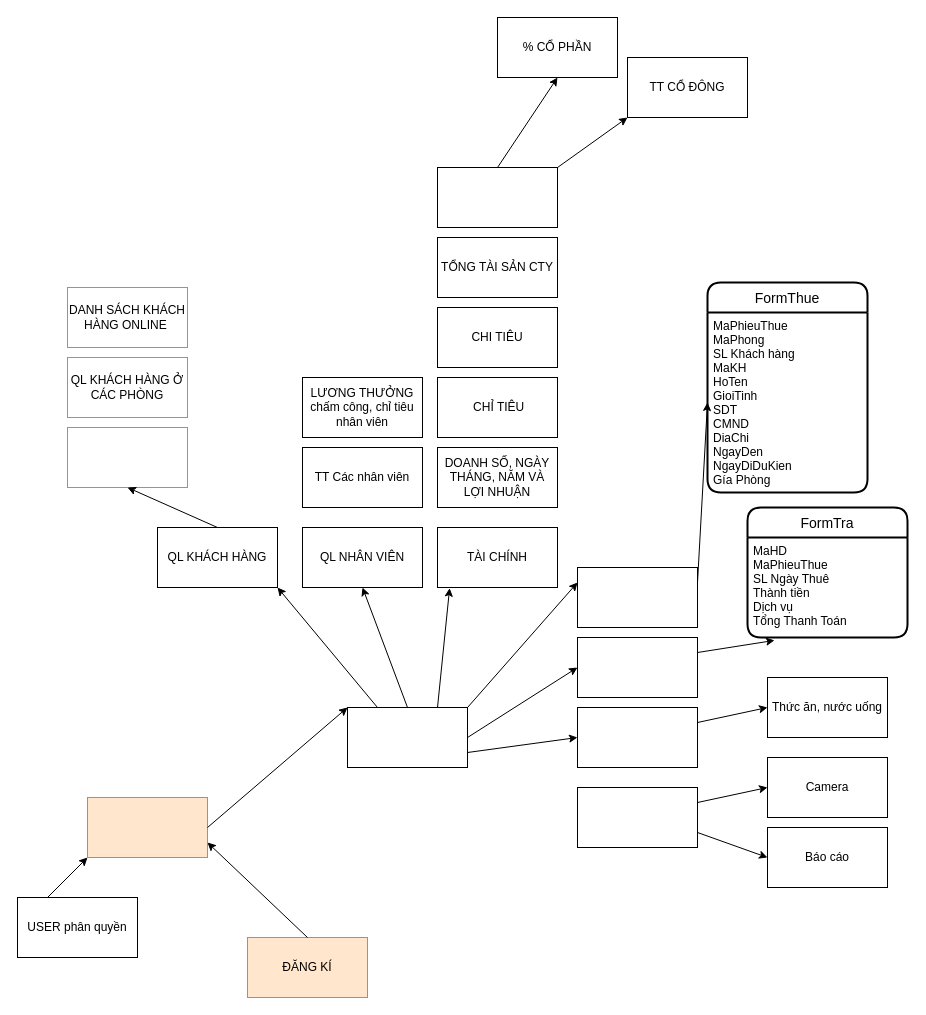
Some shapes in this 926 by 1015 pixel diagram are drawn without their labels. Each missing label, with the centre of its shape:
Bảo vệ và an ninh: (x=637, y=817)
DỊCH VỤ: (x=637, y=737)
Form Chính, Phòng chức năng trả và thuê: (x=407, y=737)
Form trả: (x=637, y=667)
From Thuê (thuê ofline, online): (x=637, y=597)
KHÁCH HÀNG THÂN THIẾT: (x=127, y=457)
QUẢN LÍ CỔ ĐÔNG: (x=497, y=197)
ĐĂNG NHẬP: (x=147, y=827)
